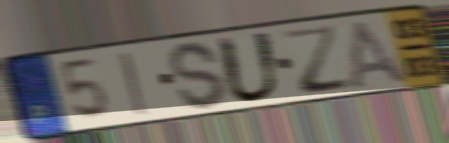5: (54, 55, 112, 122)
A: (344, 16, 414, 89)
I: (117, 49, 152, 118)
S: (166, 39, 230, 112)
U: (214, 29, 284, 105)
Z: (280, 21, 356, 97)
